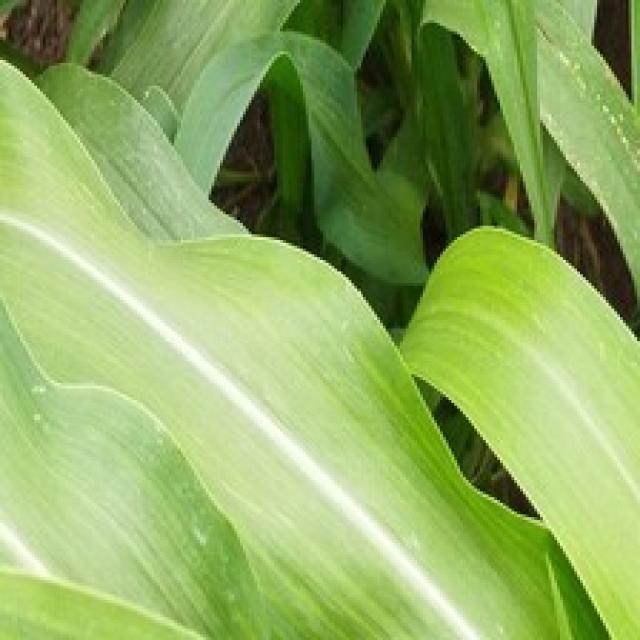Corn: (0, 0, 637, 637), (394, 220, 637, 637)
